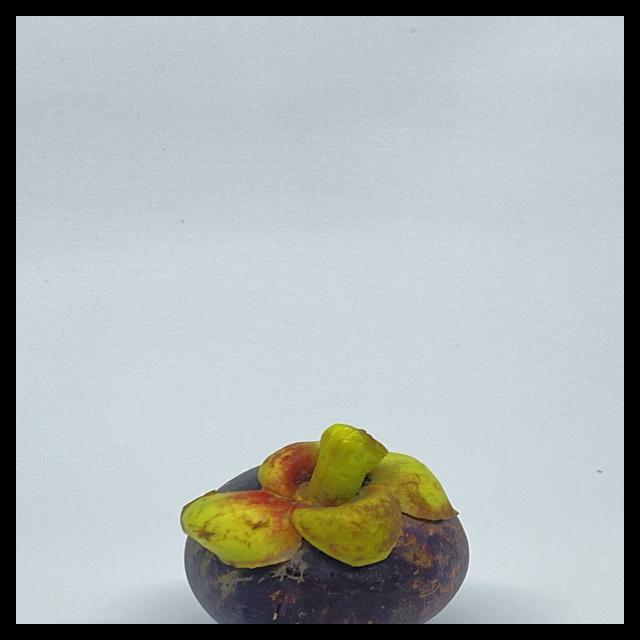mangosteen: (164, 396, 483, 624)
